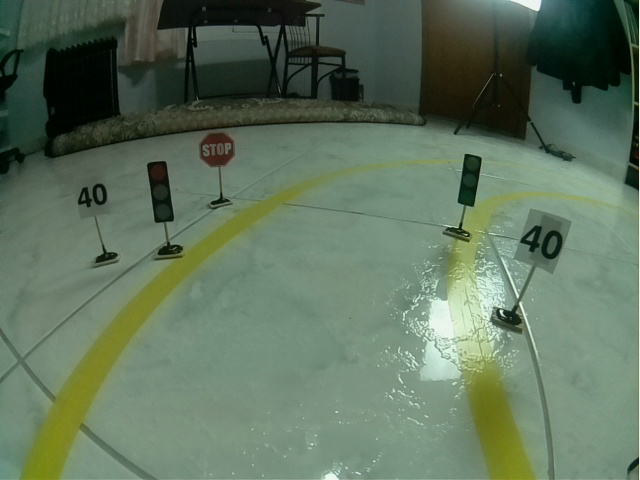Green Traffic Light: (457, 152, 482, 207)
Red Traffic Light: (145, 160, 175, 224)
Speed Limit 40: (514, 208, 573, 276), (76, 178, 110, 219)
Stop: (197, 131, 236, 168)
